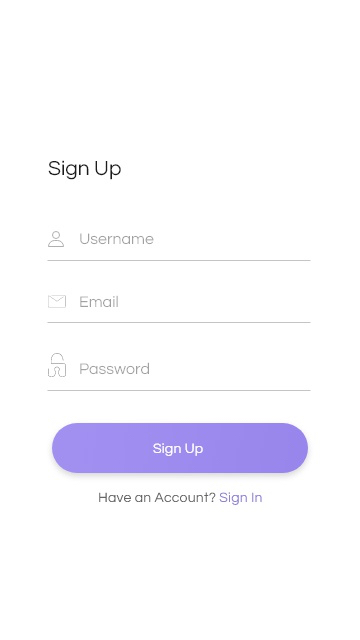EditText: (47, 353, 311, 392), (47, 231, 311, 262), (48, 295, 311, 324)
Icon: (48, 353, 67, 378), (48, 231, 65, 248), (49, 295, 67, 309)
Text: (99, 491, 263, 506), (49, 160, 122, 181), (80, 233, 154, 245), (81, 363, 150, 375), (80, 296, 119, 308)
TextButton: (52, 423, 309, 474)
